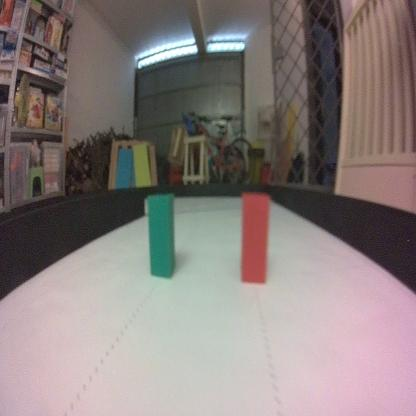green: (146, 188, 176, 282)
red: (238, 190, 270, 288)
